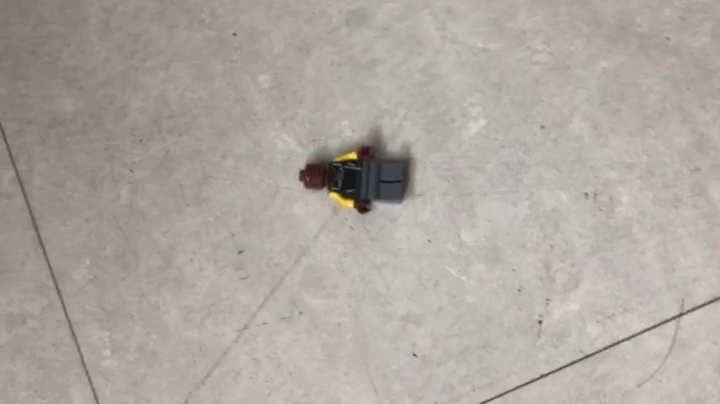people: (298, 144, 412, 216)
